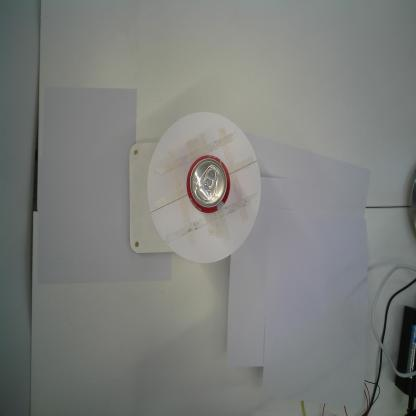Drink: (186, 155, 230, 214)
